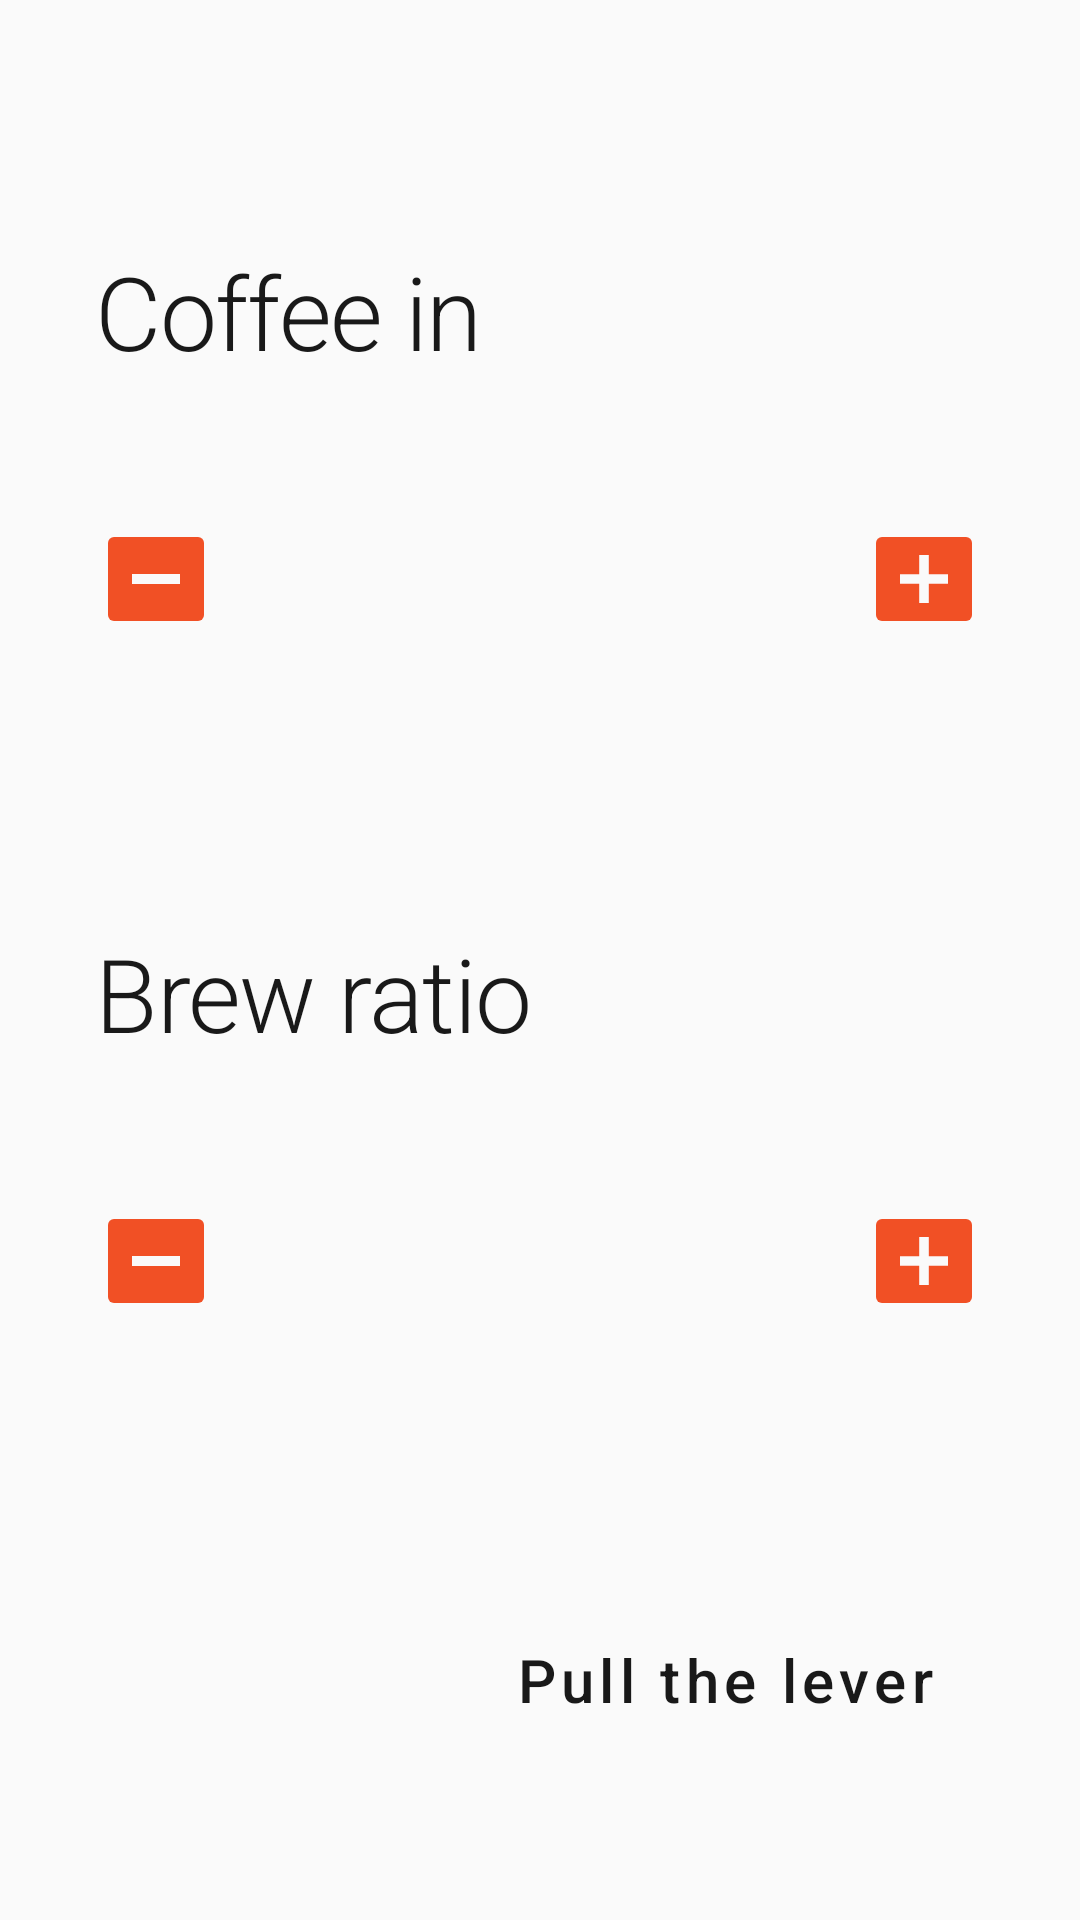

Point at icon controls on the screen. Image size 1080×1920, points as (x,y).
add: (924,579), (924,1261)
subtract: (156,579), (156,1261)
